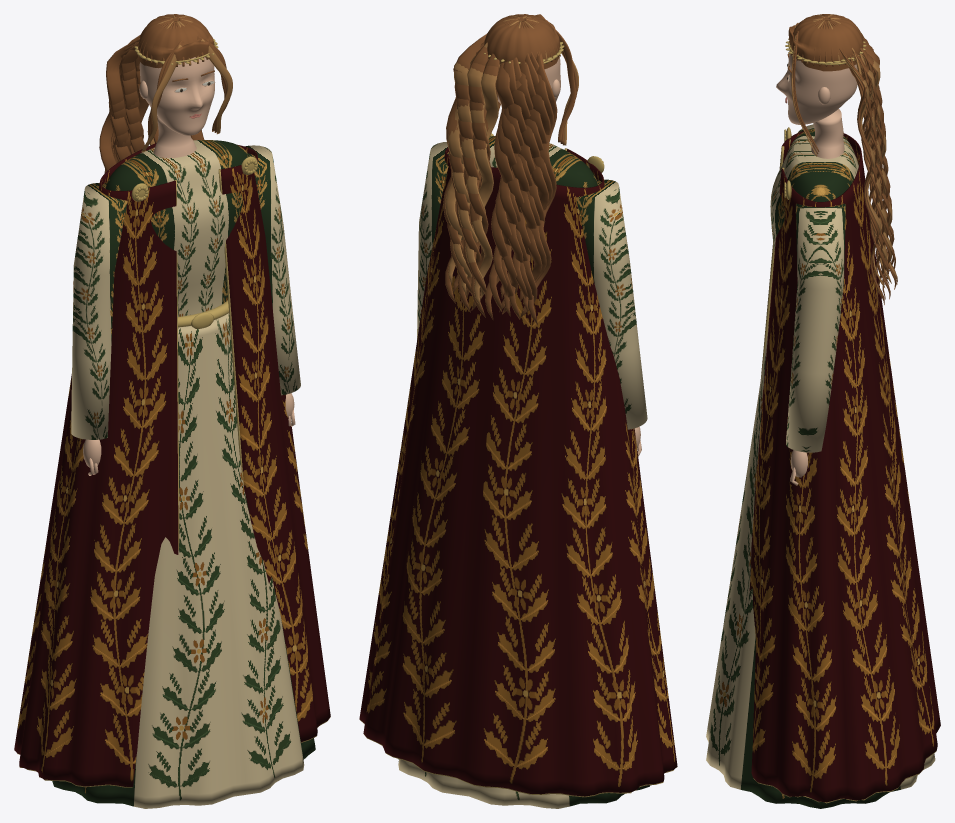
Rendered from princess-v12-standing.glb.
3 renders of one model, left to right at view 1: azimuth 30°, elevation 25°; view 2: azimuth 150°, elevation 25°; view 3: azimuth 270°, elevation 25°, orthographic.
Parts seen in each view (by area): view 1: cape_surface, MorrisPrincess_surface, body_surface, head_surface, armL_surface, armR_surface; view 2: cape_surface, head_surface, armL_surface, MorrisPrincess_surface, armR_surface, body_surface; view 3: cape_surface, head_surface, MorrisPrincess_surface, armR_surface, body_surface.
Part boxes in pixels (<box>): cape_surface: <box>14,143,330,787</box>; MorrisPrincess_surface: <box>52,313,315,808</box>; body_surface: <box>105,116,257,328</box>; head_surface: <box>99,14,232,172</box>; armL_surface: <box>71,183,127,475</box>; armR_surface: <box>245,145,300,426</box>; cape_surface: <box>359,147,677,797</box>; head_surface: <box>443,14,578,325</box>; armL_surface: <box>576,179,647,456</box>; MorrisPrincess_surface: <box>398,759,650,808</box>; armR_surface: <box>417,142,448,339</box>; body_surface: <box>489,133,604,187</box>; cape_surface: <box>749,131,940,803</box>; head_surface: <box>776,14,897,305</box>; MorrisPrincess_surface: <box>706,326,935,808</box>; armR_surface: <box>786,203,845,485</box>; body_surface: <box>770,109,858,299</box>.
Size of the model in its own units: 0.6912 by 1.66 by 0.4759.
Materials: 10 (2 with a texture image).
